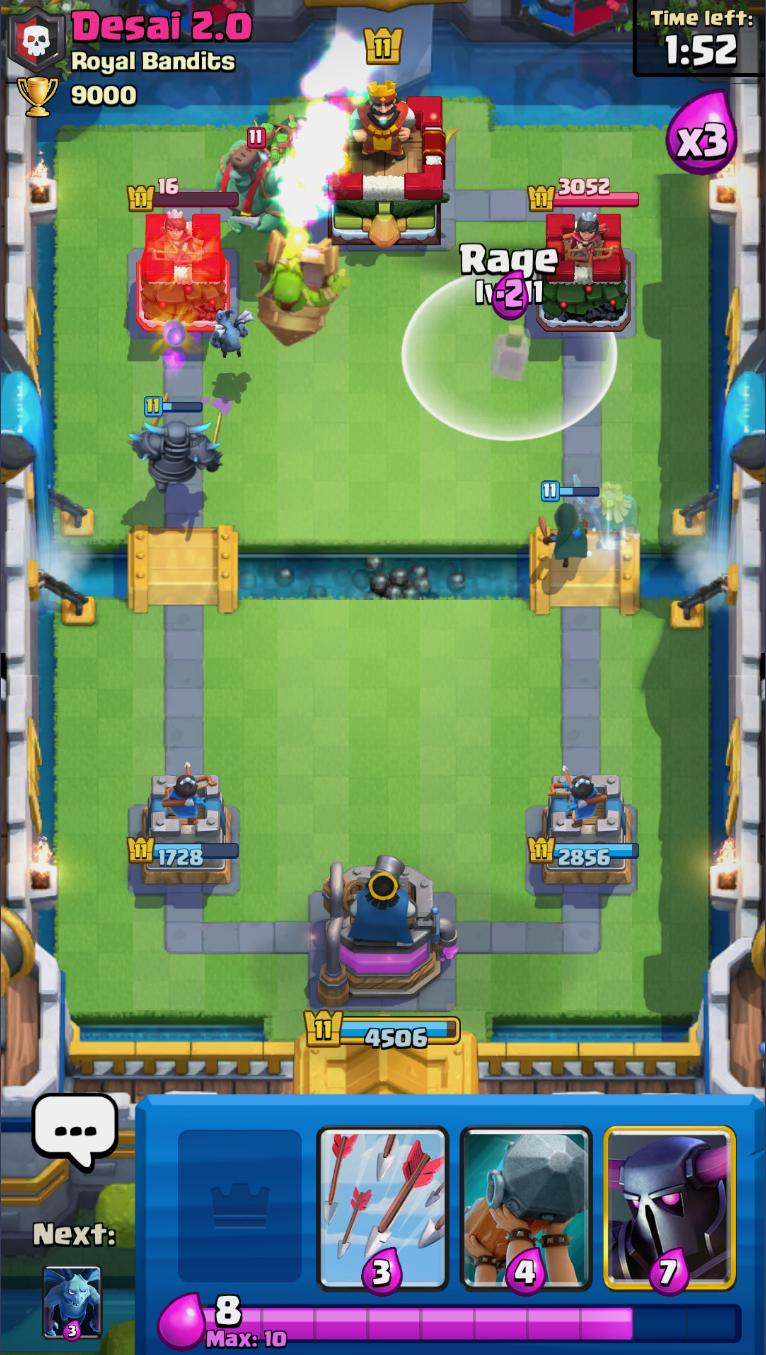ArrowDeck: (311, 1098, 454, 1300)
BattleRamDeck: (454, 1096, 600, 1297)
Elixir: (202, 1297, 745, 1350)
Empty: (169, 1094, 313, 1295)
EnemyTower: (524, 212, 634, 333), (125, 211, 232, 333)
GoblinGiant: (214, 115, 302, 238)
KingTower: (308, 82, 462, 250)
MinionsNext: (42, 1265, 104, 1342)
MyBandit: (538, 480, 598, 572)
MyKingHP: (304, 1007, 462, 1051)
MyKingTower: (317, 854, 459, 1008)
MyMinion: (209, 304, 253, 360)
MyPekka: (130, 393, 223, 495)
MyPrincessTower: (128, 771, 239, 896), (529, 769, 640, 886)
MyPrincessTowerHP: (127, 835, 240, 867), (528, 837, 640, 869)
MyRoyaleGhost: (570, 468, 641, 550)
PekkaDeck: (601, 1097, 740, 1295)
PrincessTower: (150, 215, 205, 268), (550, 216, 607, 267)
Rocket: (254, 229, 349, 346)
TowerPrincessHP: (529, 178, 641, 212), (129, 178, 241, 211)
